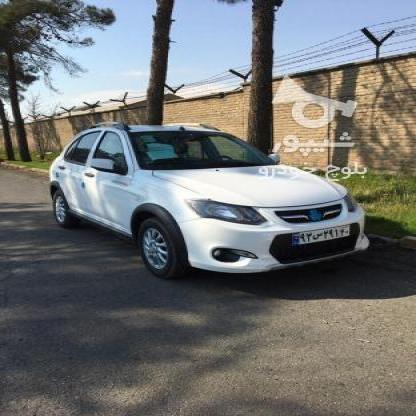licence: (291, 223, 348, 246)
